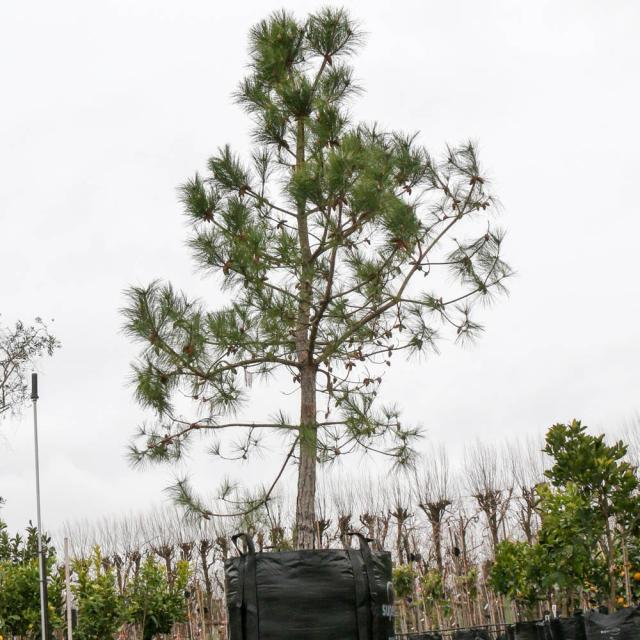Pinus Thunbergii: (166, 43, 480, 491)
